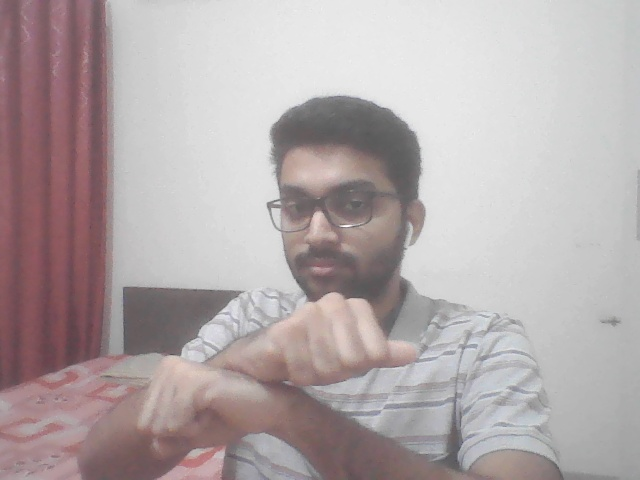work: (101, 290, 431, 455)
